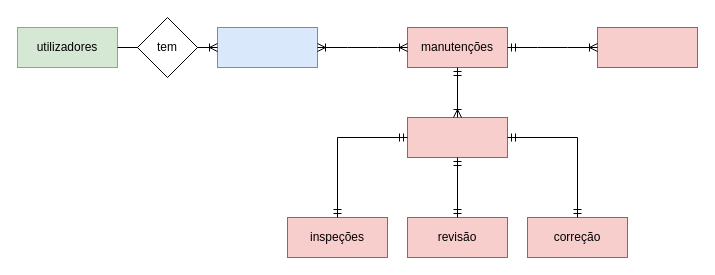
This 715x275 diagram has some shape labels left out. The shapes that lost their labels are listed below. From the top down, each one's centre as x and y in pixels, then its label:
At (267,47): "viaturas".
At (647,47): "marcações".
At (457,137): "categorias".
